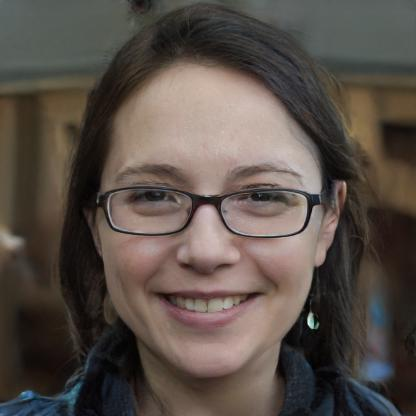glasses: (92, 182, 322, 240)
